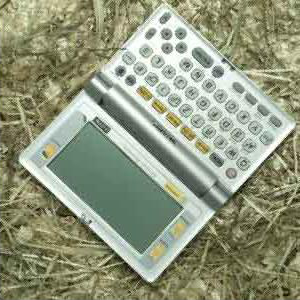handheld: (18, 5, 300, 286)
